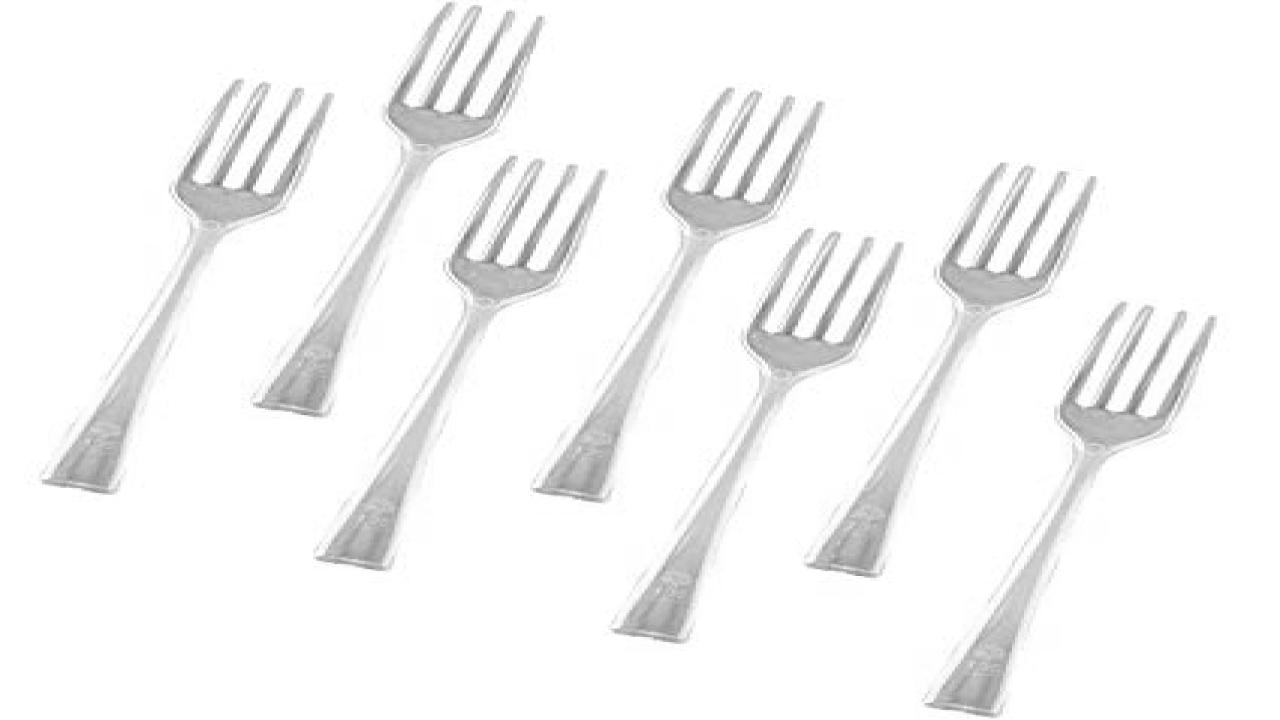fork: (311, 154, 608, 571), (250, 0, 545, 417), (608, 227, 904, 642), (801, 161, 1096, 576), (530, 87, 825, 502), (39, 78, 331, 493), (922, 302, 1214, 716)
